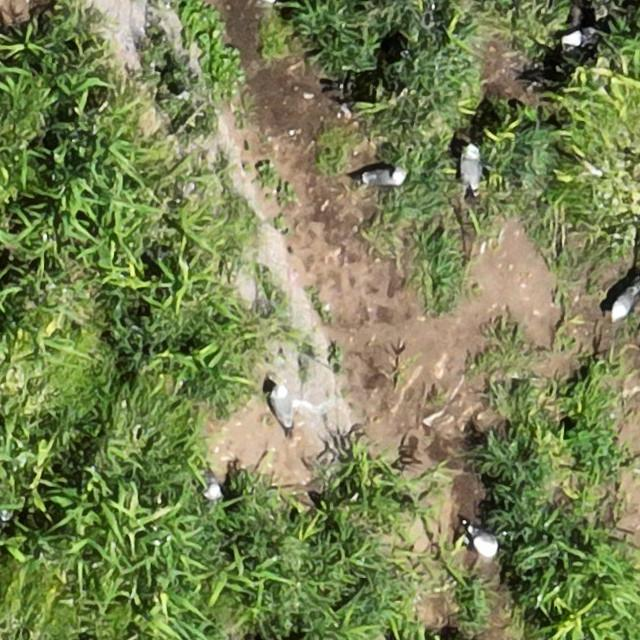umineko: (612, 288, 637, 318), (461, 146, 479, 187), (471, 530, 497, 558), (274, 389, 292, 427), (363, 168, 401, 185), (563, 27, 594, 46), (204, 478, 222, 499)
